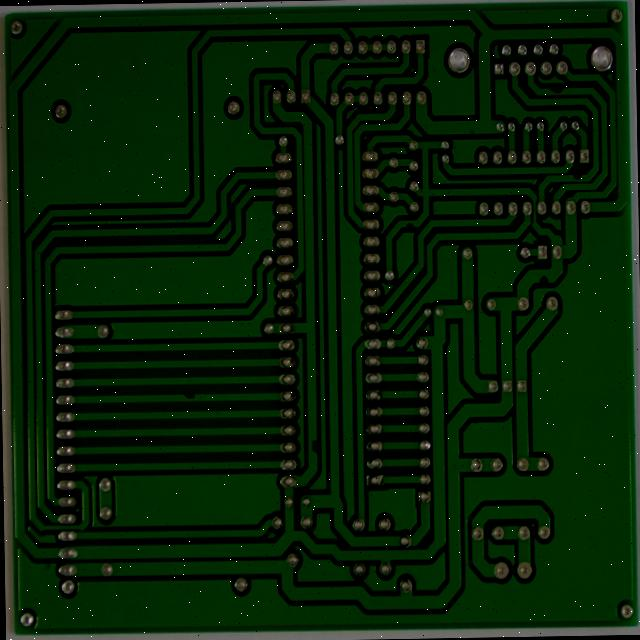mouse_bite: (568, 50, 590, 67), (321, 421, 334, 446), (187, 375, 207, 390), (418, 189, 435, 206), (592, 141, 609, 156)
